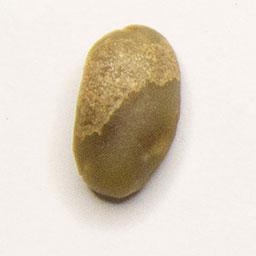longberry: (70, 21, 183, 204)
